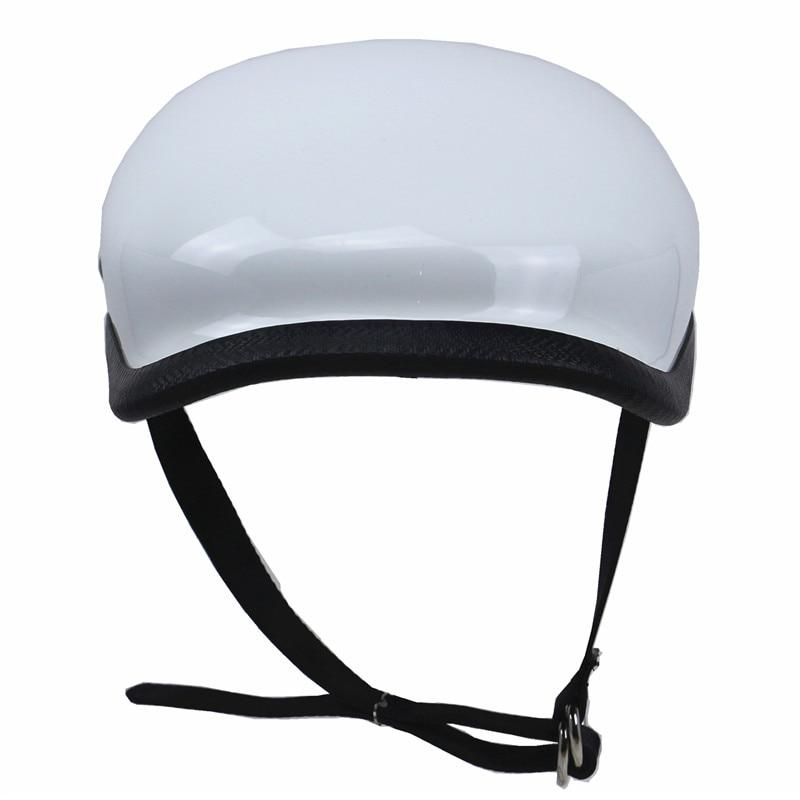with_helmet: (97, 40, 711, 431)
